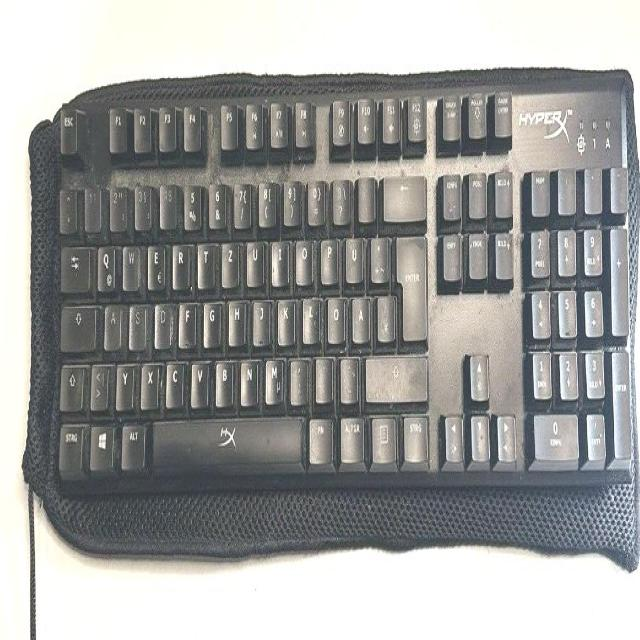0: (306, 173, 325, 222)
1: (83, 180, 101, 229)
2: (108, 180, 127, 229)
3: (132, 179, 151, 229)
4: (158, 177, 176, 226)
5: (182, 178, 200, 228)
6: (207, 176, 225, 225)
7: (232, 176, 250, 225)
8: (256, 175, 275, 225)
9: (281, 174, 301, 224)
a: (103, 299, 120, 348)
accent: (356, 171, 374, 220)
ae: (350, 291, 368, 340)
alt-left: (119, 418, 144, 465)
altgr-right: (338, 411, 363, 459)
b: (213, 355, 233, 404)
c: (164, 356, 183, 405)
caret: (58, 184, 76, 227)
comma: (288, 353, 306, 402)
d: (153, 298, 170, 345)
del: (381, 168, 424, 218)
e: (146, 238, 164, 287)
enter: (393, 228, 425, 339)
f: (178, 296, 196, 345)
g: (202, 296, 220, 344)
h: (226, 294, 245, 344)
hash: (375, 290, 393, 339)
i: (269, 235, 288, 283)
j: (251, 294, 269, 343)
k: (275, 294, 295, 343)
keyboard: (42, 68, 640, 520)
l: (301, 291, 319, 341)
less: (88, 359, 107, 408)
m: (263, 353, 283, 402)
minus: (338, 352, 358, 401)
n: (238, 353, 258, 403)
o: (294, 234, 312, 282)
oe: (325, 291, 344, 341)
p: (319, 233, 337, 282)
plus: (369, 230, 387, 280)
point: (313, 352, 332, 399)
q: (95, 240, 115, 289)
r: (170, 238, 189, 286)
s: (128, 299, 146, 346)
shift-left: (57, 360, 83, 407)
shift-lock: (58, 300, 95, 349)
shift-right: (363, 349, 426, 399)
space: (149, 410, 301, 471)
ss: (330, 173, 350, 222)
strg-left: (57, 418, 82, 471)
strg-right: (400, 409, 427, 459)
t: (196, 238, 213, 286)
tab: (58, 241, 89, 290)
u: (245, 236, 263, 285)
ue: (343, 232, 363, 282)
v: (189, 356, 208, 403)
w: (121, 240, 139, 289)
x: (139, 357, 158, 406)
y: (114, 359, 133, 408)
z: (221, 237, 238, 284)
